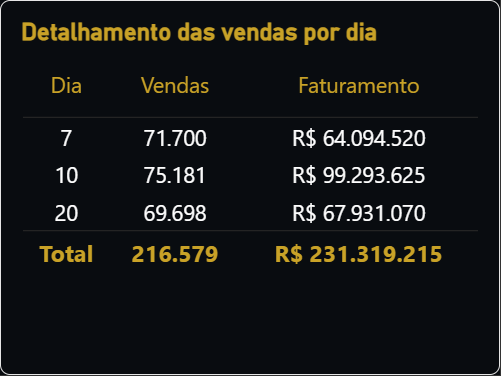

What the dashboard file says about the page in this screenshot:
{"tool":"powerbi","page":{"name":"TOOLTIP VENDAS|DIA","canvas":[400,300],"ordinal":3},"visuals":[{"type":"tableEx","title":"Detalhamento das vendas por dia","fields":{"Values":["Calendario.Data.Variation.Hierarquia de datas.Dia","medidasVendasporDia.quantidadeVendas","medidasVendasporDia.totalVendas"]},"box":[0,0,400,300],"z":0}]}

Visuals, with their boxes in screenshot pixels (x1, y1, x2, y2), scaled from the page's 400x300 canvas onto the 501x376 screenshot:
"Detalhamento das vendas por dia" tableEx: select_region(0, 0, 500, 375)
